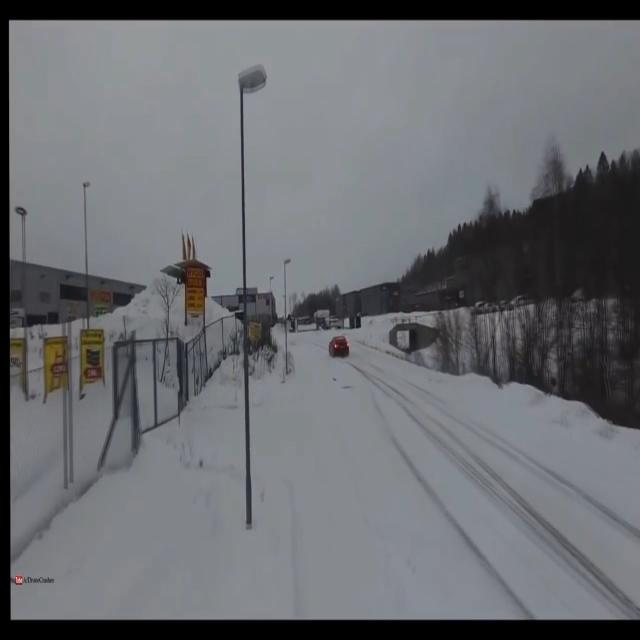Pole: (232, 64, 270, 533), (279, 252, 295, 380)
Vehicle: (328, 332, 350, 362)
